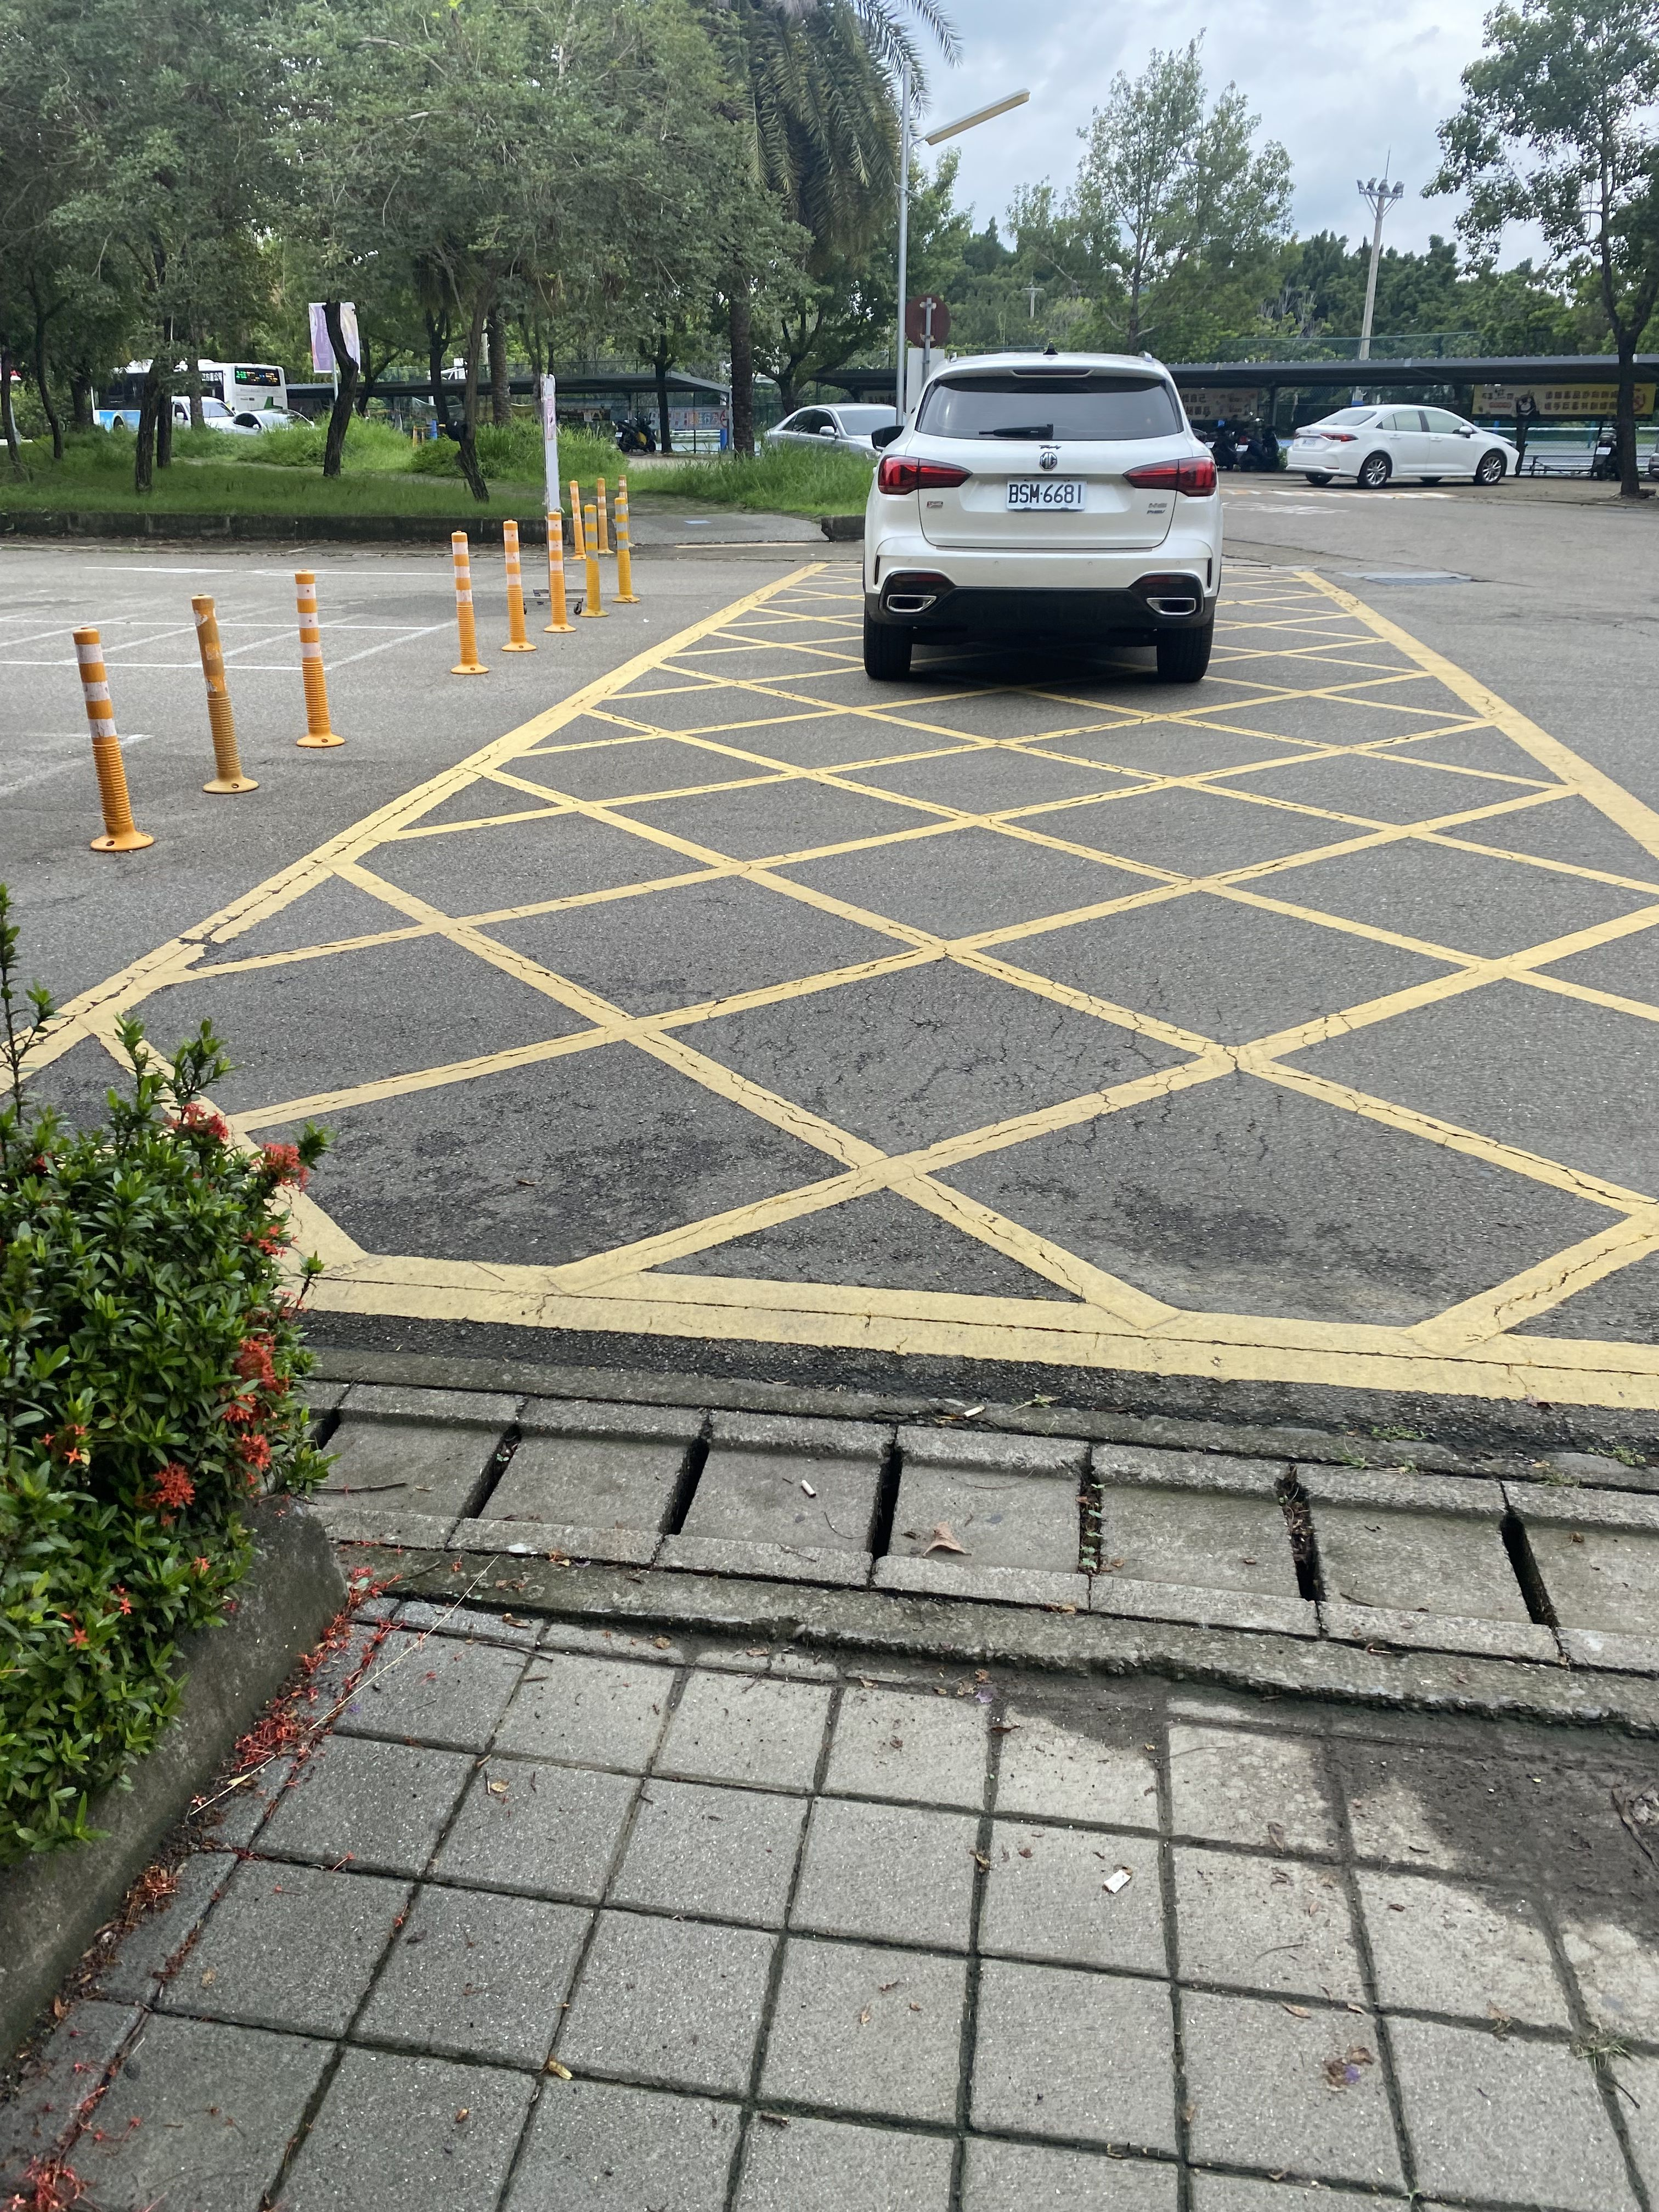sidewalk: (0, 1392, 1659, 2212)
